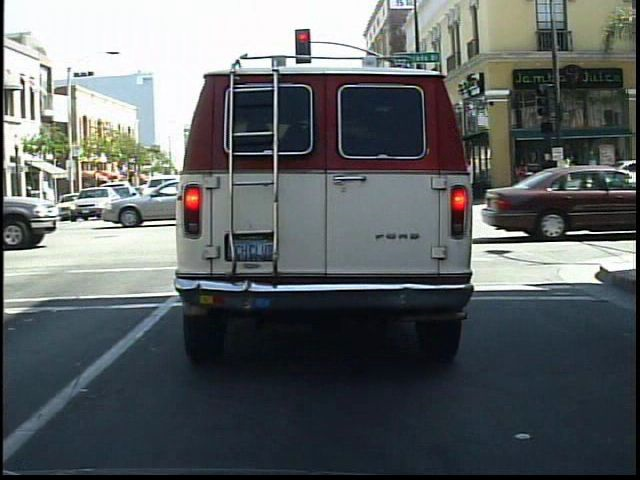person: (539, 150, 562, 203), (513, 156, 533, 202)
